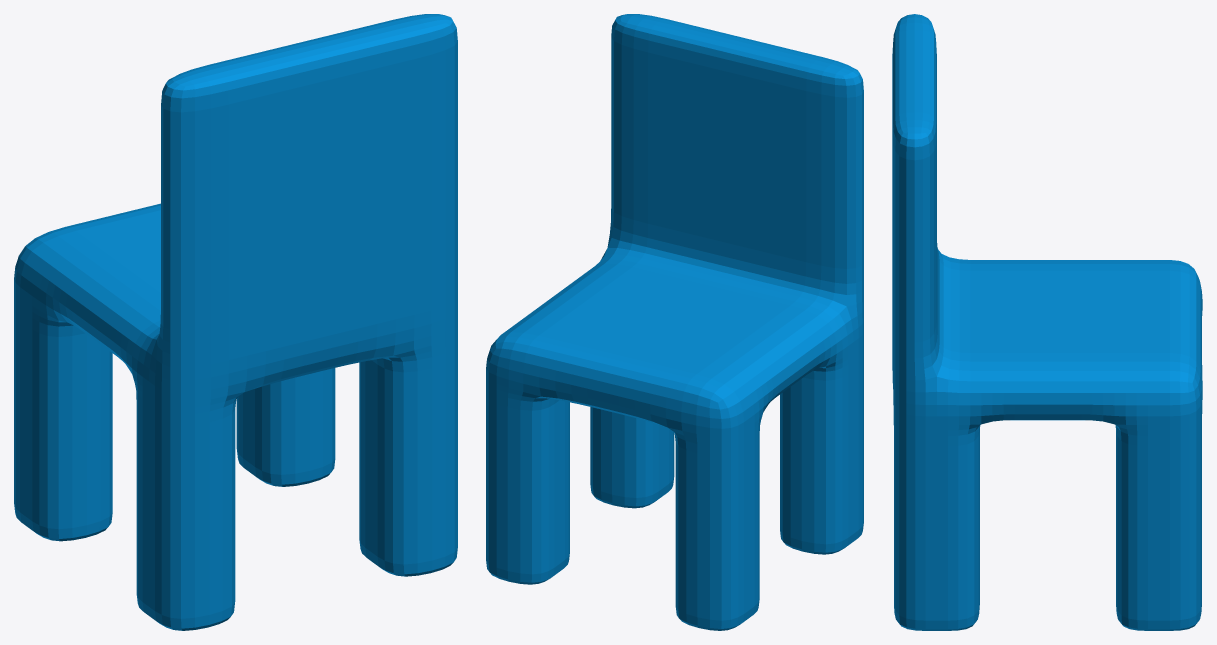
File: Chair.fbx
3 renders of one model, left to right at view 1: azimuth 30°, elevation 25°; view 2: azimuth 150°, elevation 25°; view 3: azimuth 270°, elevation 25°, orthographic. The views are drawn at different scales.
Visible parts, largest first — view 1: Cube; view 2: Cube; view 3: Cube.
Boxes of the visible parts, x1=… form: Cube: x1=14, y1=14, x2=457, y2=630; Cube: x1=486, y1=14, x2=863, y2=630; Cube: x1=892, y1=14, x2=1202, y2=630.
Bounding box in the file's own units: 2 × 3.52 × 1.99.
